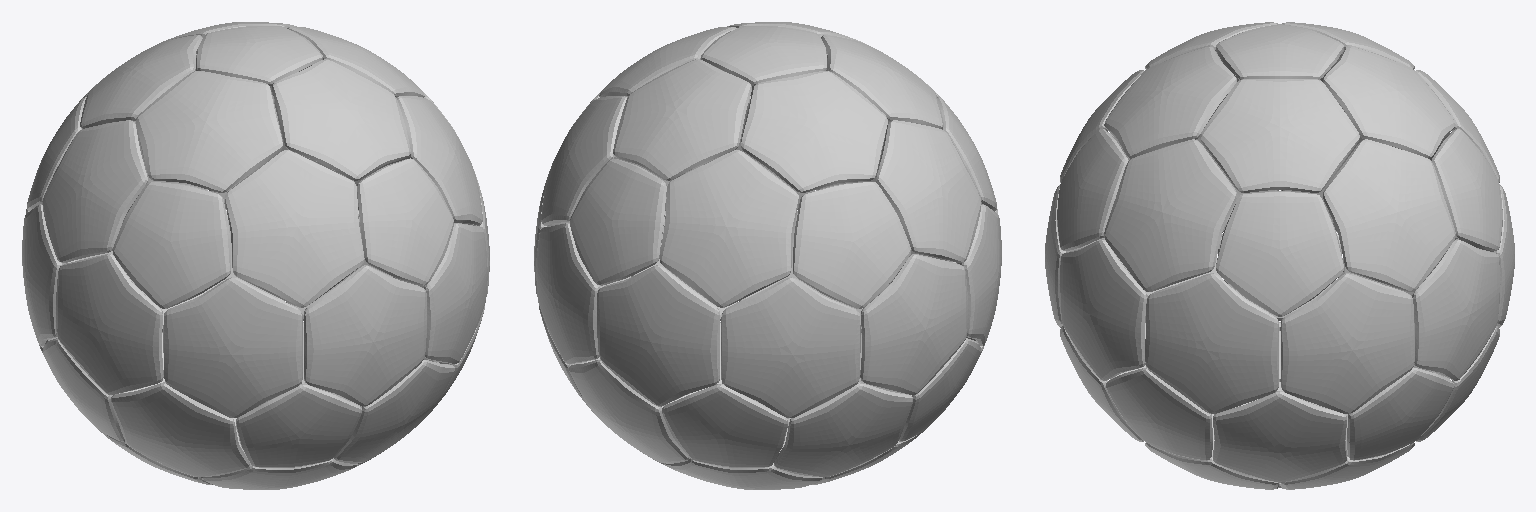
File: balon.obj
3 views of the same model, side by side, from view 1: azimuth 30°, elevation 25°; view 2: azimuth 150°, elevation 25°; view 3: azimuth 270°, elevation 25° (orthographic).
Visible parts, largest first — view 1: Sphere; view 2: Sphere; view 3: Sphere.
Part boxes in pixels (bbox=[...]): Sphere: bbox=[22, 22, 489, 489]; Sphere: bbox=[534, 22, 1001, 489]; Sphere: bbox=[1045, 22, 1514, 489].
Bounding box in the file's own units: 5.44 × 5.48 × 5.47.